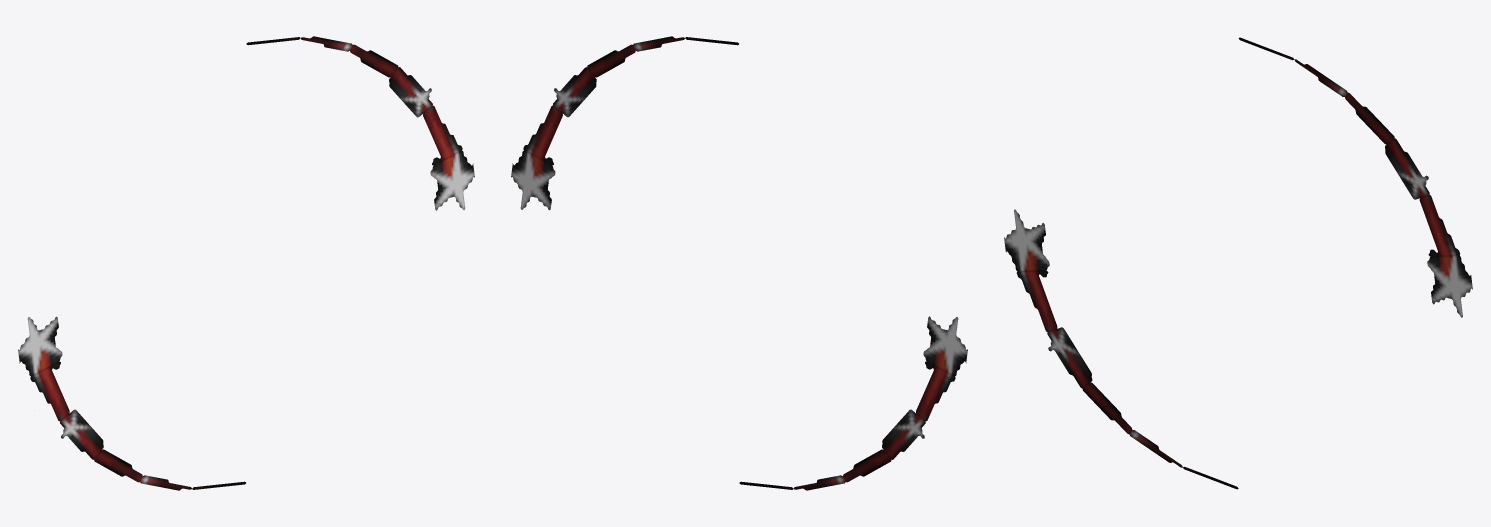
3 views of the same model, side by side, from view 1: azimuth 30°, elevation 25°; view 2: azimuth 150°, elevation 25°; view 3: azimuth 330°, elevation 25° (orthographic). The views are drawn at different scales.
Visible parts, largest first — view 1: T1L8M005_23; view 2: T1L8M005_23; view 3: T1L8M005_23.
Part boxes in pixels (<box>): T1L8M005_23: <box>18,36,474,490</box>; T1L8M005_23: <box>511,36,967,490</box>; T1L8M005_23: <box>1004,37,1472,489</box>.
Bounding box in the file's own units: 2.06 × 2.06 × 0.000977.
